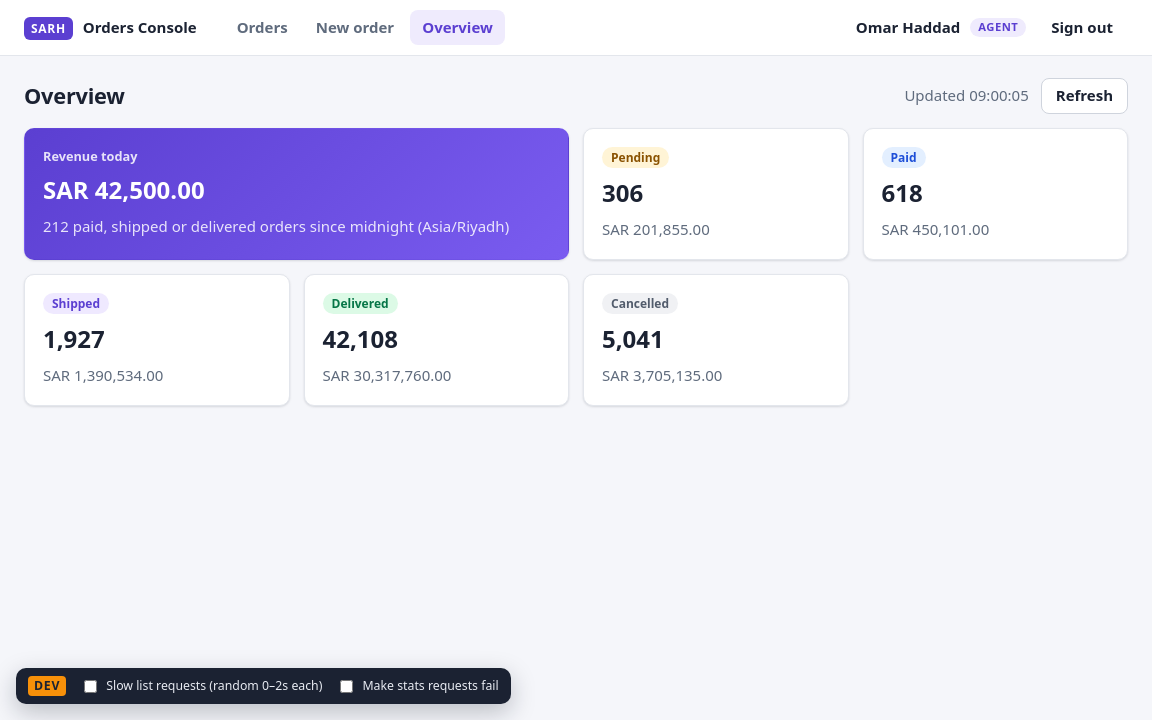
Test: StatsPage › keeps the last numbers on screen when a refresh fails
Expected: the text "42,108" is shown, [322,322,398,355]
Step 1. Click the button "Refresh" → (1084, 96), box [1041,78,1128,114]
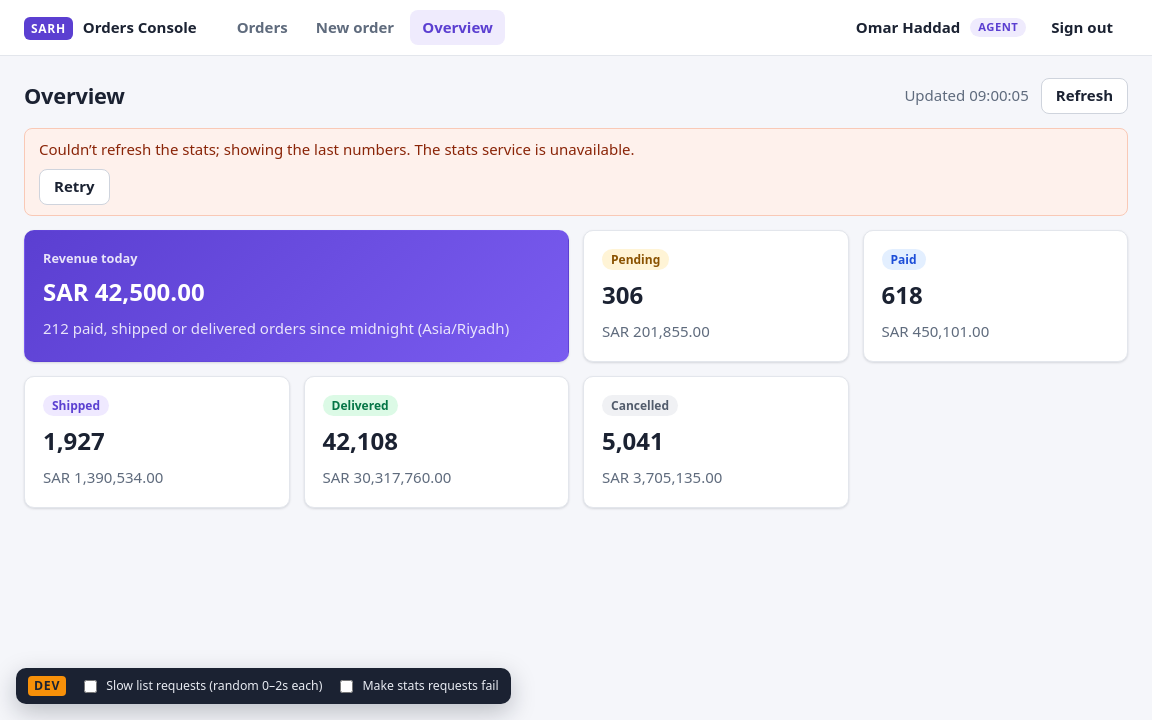
Expected: the text "42,108" is shown, [322,424,398,457]
Expected: the message shows "Couldn’t refresh the stats; showing the last numbers.", [39,139,411,159]
